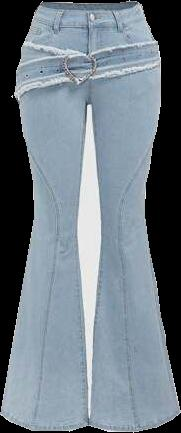Hemline: (88, 409, 180, 432), (0, 411, 88, 431)
Pantleg: (88, 2, 179, 431), (1, 2, 88, 430)
Waistline: (117, 140, 153, 432), (26, 149, 62, 432), (30, 17, 148, 30), (38, 1, 140, 16)
